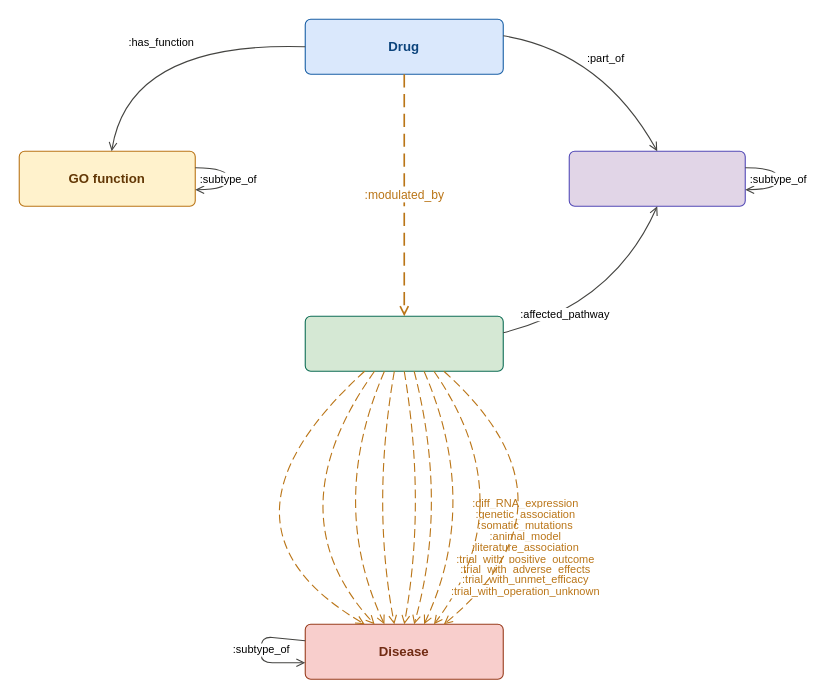
Some shapes in this 826 by 699 pixel diagram are drawn without their labels. Here are the shapes that lost their labels. From the top down, the box of each, then its label:
(568, 150, 745, 206): Pathway
(304, 315, 503, 371): Protein target
